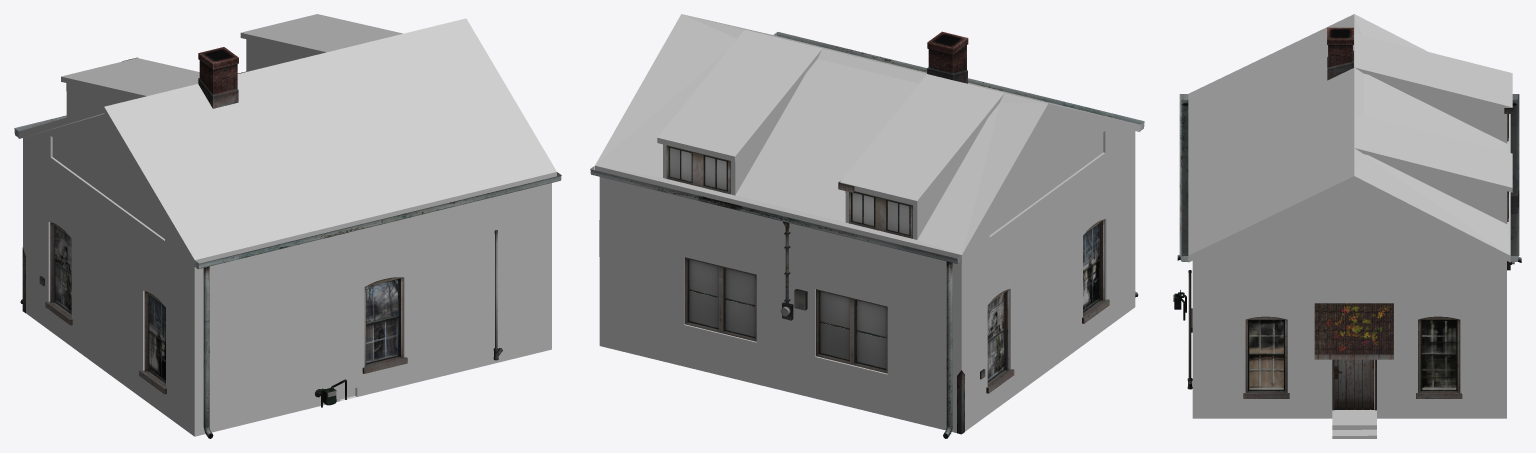
Rendered from SchoolHouse.fbx.
3 renders of one model, left to right at view 1: azimuth 30°, elevation 25°; view 2: azimuth 150°, elevation 25°; view 3: azimuth 270°, elevation 25°, orthographic. The views are drawn at different scales.
Parts seen in each view (by area): view 1: Exterior, Deco; view 2: Exterior, Deco; view 3: Exterior, Deco, Door.
Part boxes in pixels (box(x1,y1,x2,y2)): Exterior: box(18, 14, 556, 436); Deco: box(14, 47, 561, 438); Exterior: box(595, 14, 1140, 432); Deco: box(590, 31, 1144, 438); Exterior: box(1188, 14, 1512, 438); Deco: box(1173, 27, 1521, 410); Door: box(1334, 359, 1374, 409).
Size of the model in its own units: 20.71 by 14.55 by 16.83.
